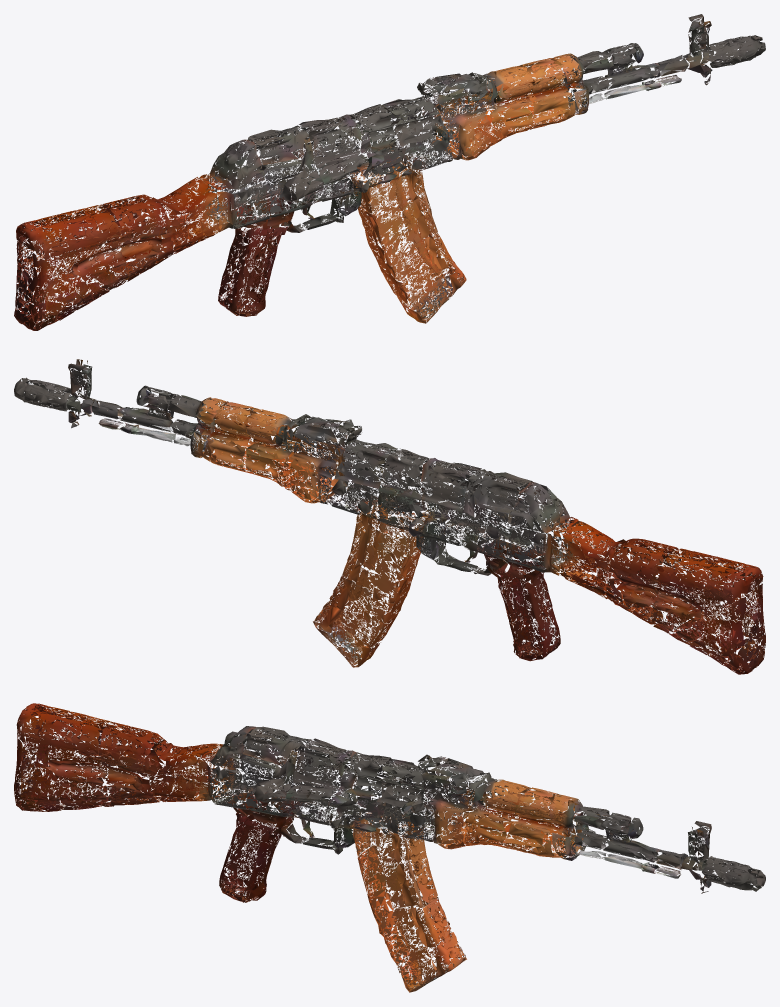
The model's file is gun2.glb.
The picture shows the model from 3 angles, top to bottom: view 1: azimuth 30°, elevation 25°; view 2: azimuth 150°, elevation 25°; view 3: azimuth 330°, elevation 25°; orthographic projection.
Parts seen in each view (by area): view 1: tripo_node_c16ac62f; view 2: tripo_node_c16ac62f; view 3: tripo_node_c16ac62f.
Part boxes in pixels (x1,y1,x2,y2): tripo_node_c16ac62f: (14,14,765,330); tripo_node_c16ac62f: (14,359,765,674); tripo_node_c16ac62f: (14,703,765,992).
Size of the model in its own units: 0.998 by 0.3005 by 0.0981.
Materials: 1 (1 with a texture image).
